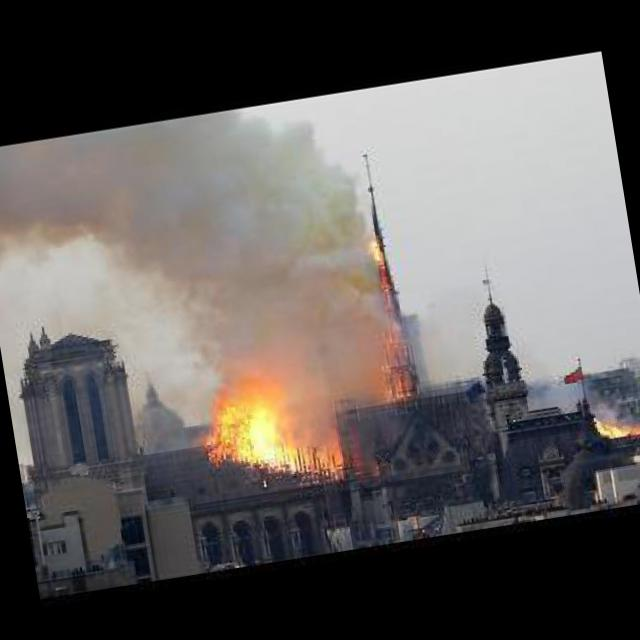fire: (199, 384, 348, 484), (358, 223, 418, 398), (586, 405, 640, 442)
smoke: (0, 90, 385, 437)
